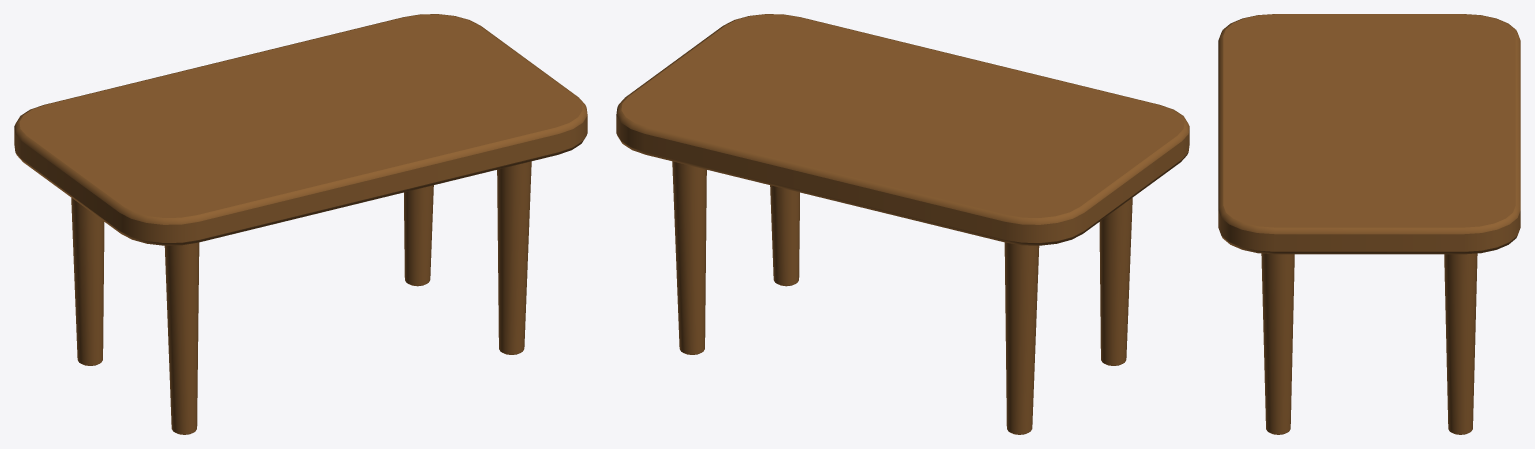
File: Table3.glb
3 renders of one model, left to right at view 1: azimuth 30°, elevation 25°; view 2: azimuth 150°, elevation 25°; view 3: azimuth 270°, elevation 25°, orthographic. The views are drawn at different scales.
Parts seen in each view (by area): view 1: Table; view 2: Table; view 3: Table.
Boxes of the visible parts, x1,y1,x2,y2 form: Table: [14, 14, 587, 434]; Table: [616, 14, 1189, 434]; Table: [1218, 14, 1520, 434].
Bounding box in the file's own units: 1.5 × 0.7496 × 0.8827.
